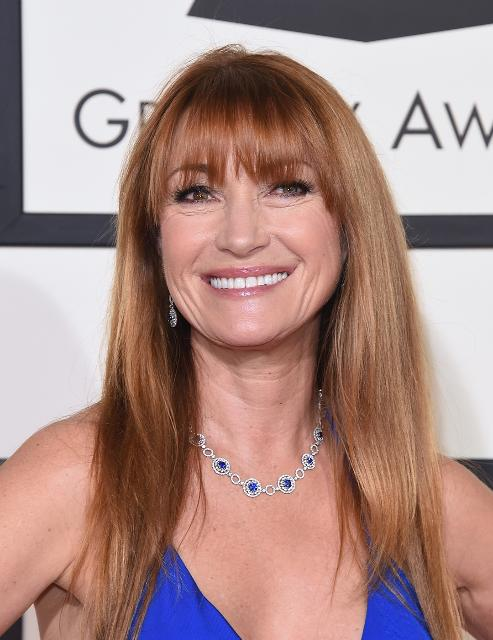gummy_smile: (272, 231, 304, 257), (190, 243, 210, 267)
masseter: (170, 274, 198, 308), (298, 276, 318, 314)
